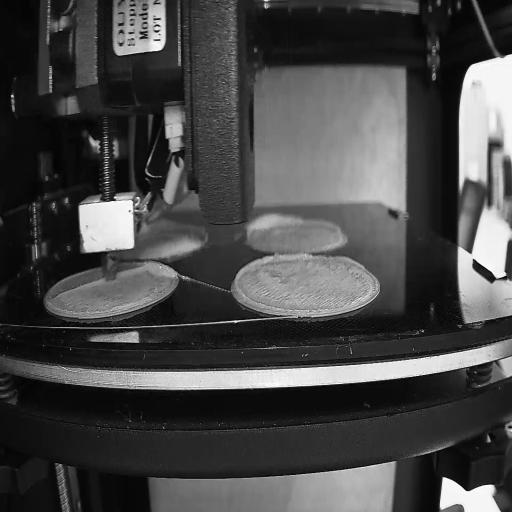over_extrusion: (234, 251, 315, 315), (244, 208, 303, 242), (54, 276, 106, 300), (306, 213, 342, 236), (334, 251, 364, 274), (117, 259, 150, 279)
